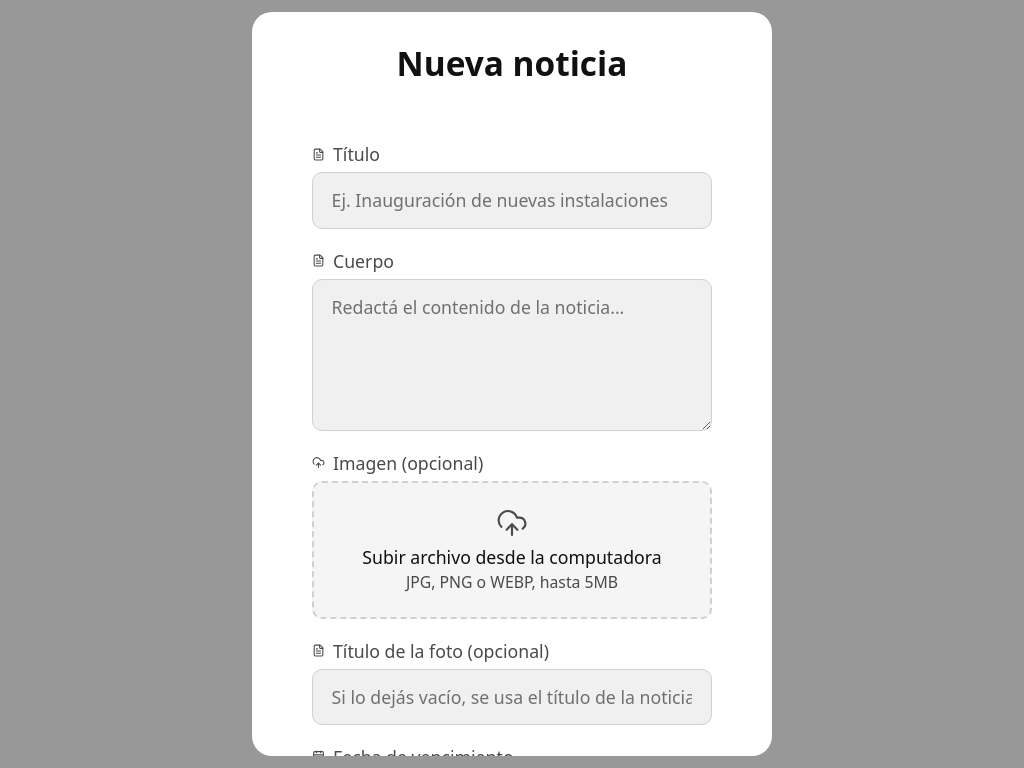
Scenario: CreateNoticiaForm › no envía si la fecha de vencimiento está vacía
Type "Título" into the field with placeholder "Ej. Inauguración de nuevas instalaciones" at [512, 200], box [312,172,712,228]
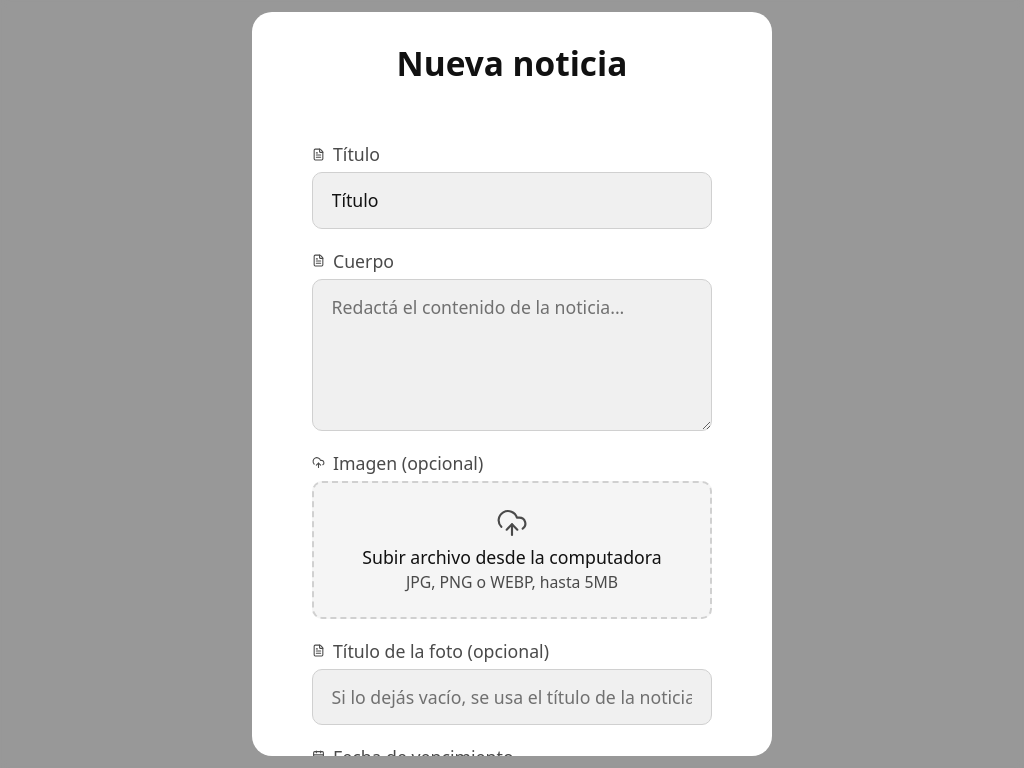
Type "Cuerpo" into the text box with placeholder "Redactá el contenido de la noticia..." at [512, 355], box [312,278,712,431]
(page scrolled)
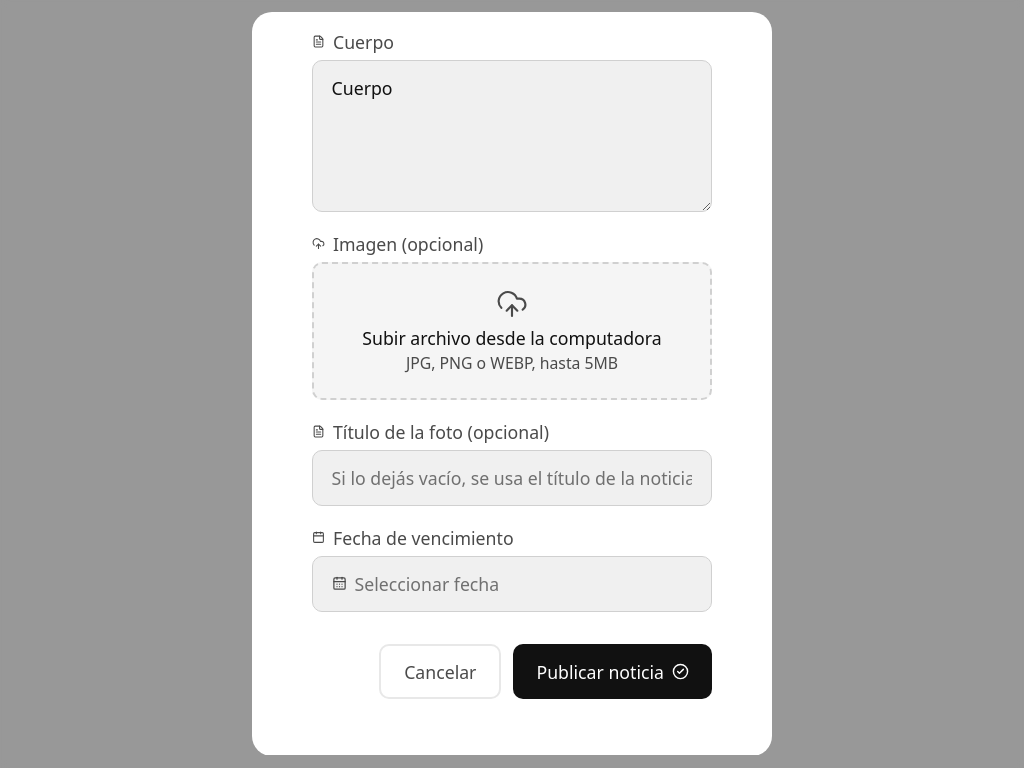
Click the button "Publicar noticia" at [613, 672], box [514,644,712,699]
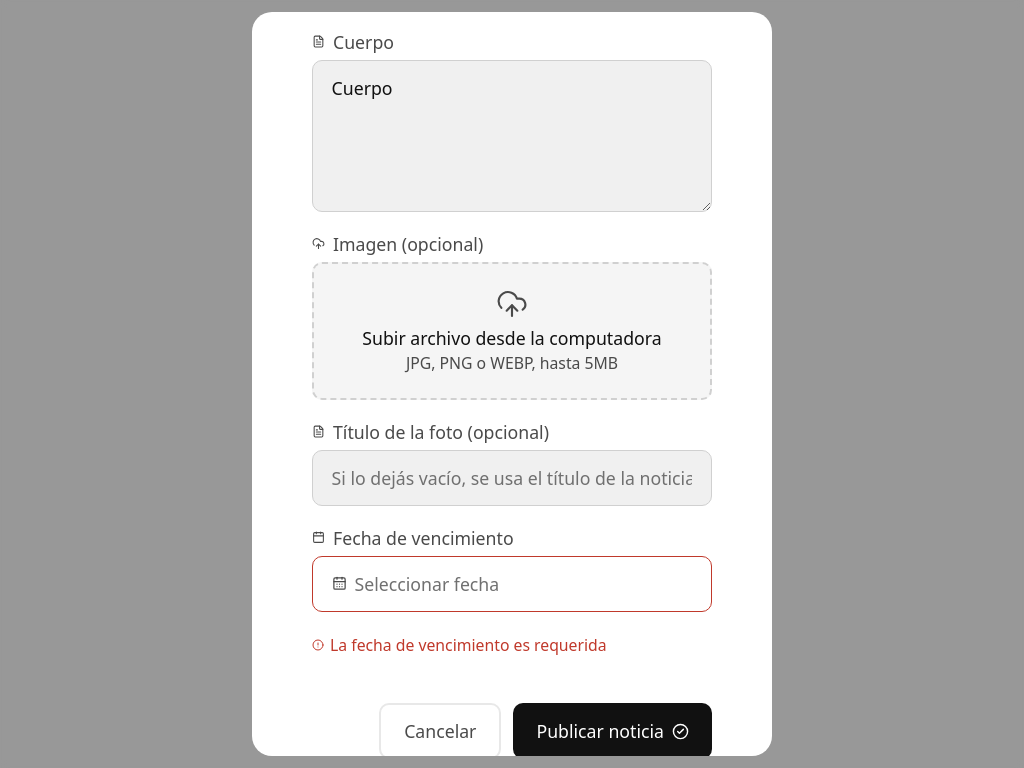
Result: the text "La fecha de vencimiento es requerida" is shown at [312,634,607,656]
